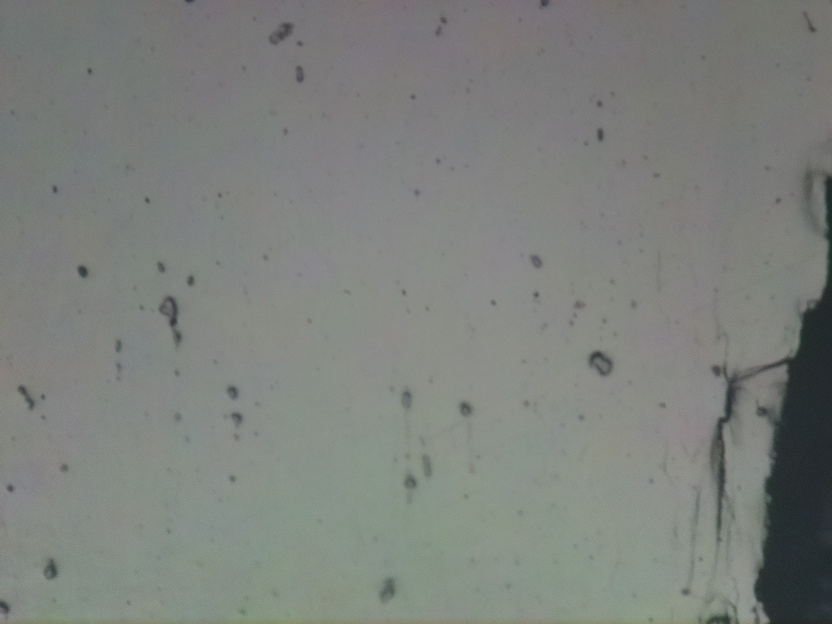crack: (759, 170, 832, 622), (711, 360, 740, 538)
